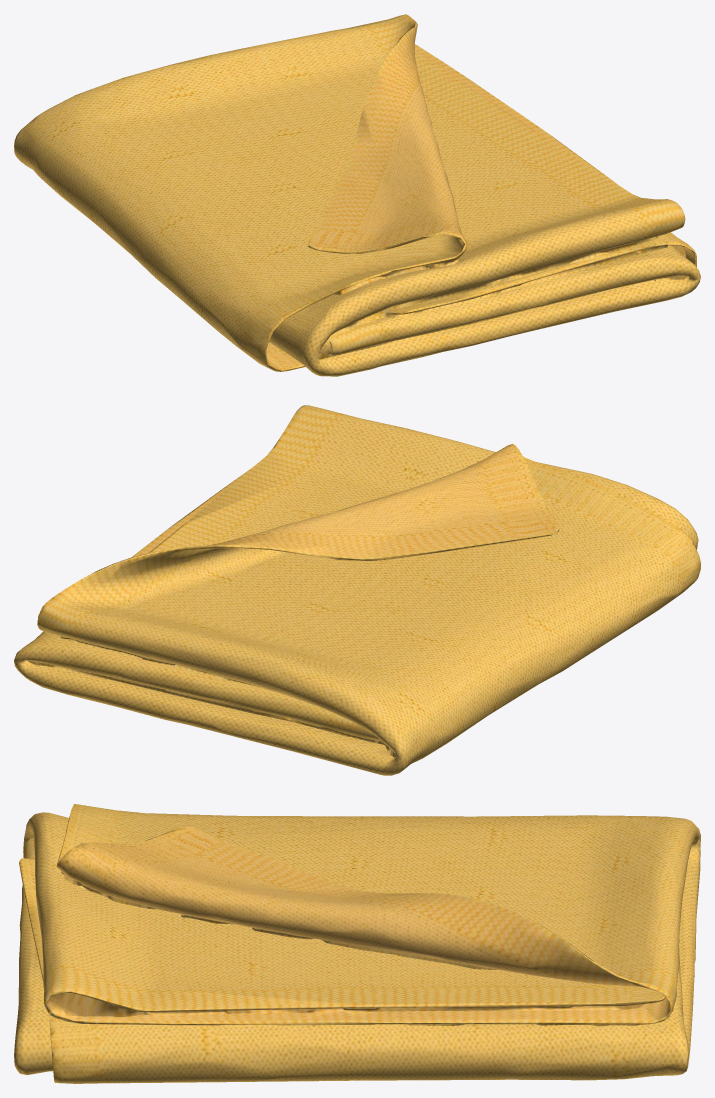
3 renders of one model, top to bottom at view 1: azimuth 30°, elevation 25°; view 2: azimuth 150°, elevation 25°; view 3: azimuth 270°, elevation 25°, orthographic. The views are drawn at different scales.
Visible parts, largest first — view 1: ASY_ART_70625061_S01_NV01; view 2: ASY_ART_70625061_S01_NV01; view 3: ASY_ART_70625061_S01_NV01.
Boxes of the visible parts, x1=… form: ASY_ART_70625061_S01_NV01: x1=14, y1=14, x2=700, y2=376; ASY_ART_70625061_S01_NV01: x1=14, y1=405, x2=700, y2=775; ASY_ART_70625061_S01_NV01: x1=14, y1=804, x2=700, y2=1083.
Size of the model in its own units: 0.2609 by 0.0624 by 0.3201.
Materials: 1 (1 with a texture image).
